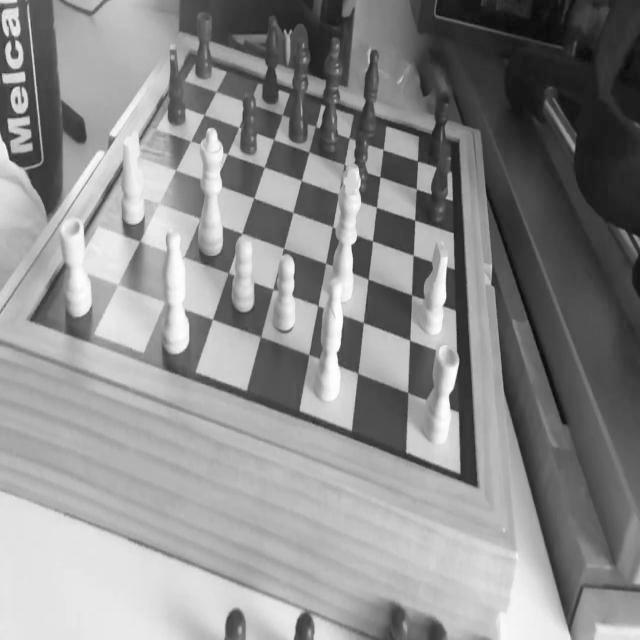chess-table-corners: (466, 472, 486, 502), (21, 308, 36, 328), (181, 38, 195, 58), (452, 128, 463, 150)
